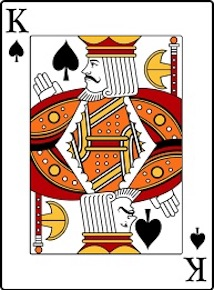KingOfSpades: (1, 2, 214, 288)
